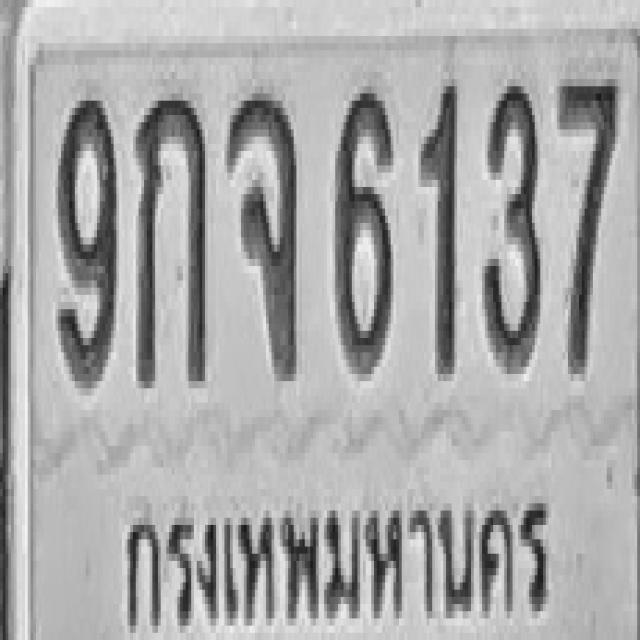1: (418, 72, 457, 374)
10GorGai: (134, 83, 207, 384)
17ChorChan: (226, 82, 298, 378)
3: (482, 76, 540, 370)
6: (336, 76, 394, 370)
7: (557, 68, 618, 370)
9: (58, 90, 116, 385)
Bangkok: (108, 466, 556, 640)
